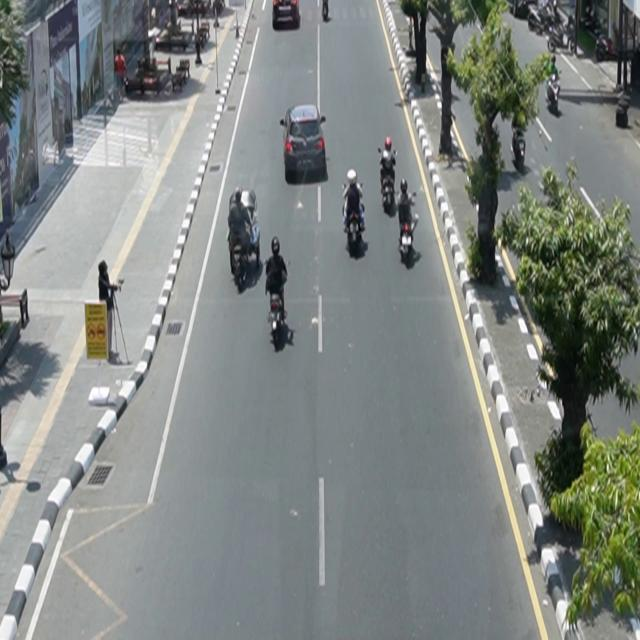car: (281, 104, 328, 180), (273, 1, 301, 31)
